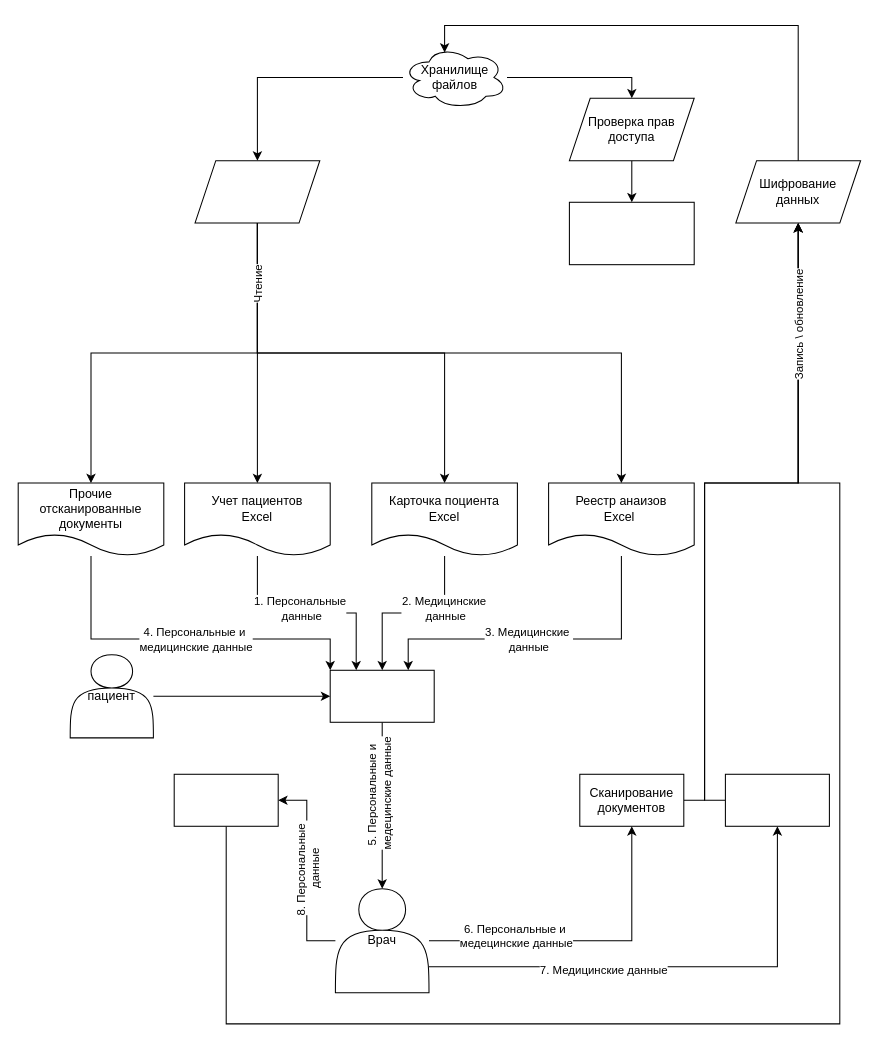
This 879x1050 diagram has some shape labels left out. The shapes that lost their labels are listed below. From the top down, each one's box as (x1, y1, x2, y2) in pixels, then its label:
(194, 160, 320, 223): Расшифровка данных
(568, 201, 694, 265): Active Directory
(329, 669, 434, 722): Прием у врача
(173, 773, 278, 826): Заполнение реестра пациентов
(724, 773, 829, 826): Заполнение карточки пациента
